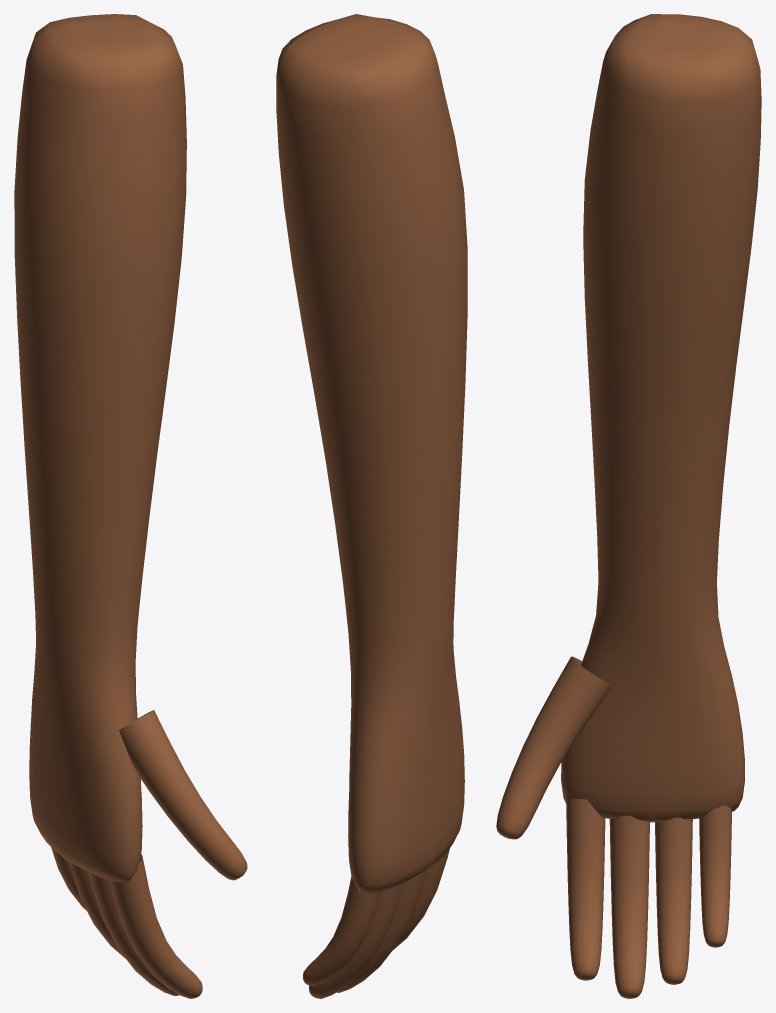
The model's file is antebrazoder.obj.
3 views of the same model, side by side, from view 1: azimuth 30°, elevation 25°; view 2: azimuth 150°, elevation 25°; view 3: azimuth 270°, elevation 25° (orthographic). The views are drawn at different scales.
Visible parts, largest first — view 1: AntebrazoDer; view 2: AntebrazoDer; view 3: AntebrazoDer.
Boxes of the visible parts, box(x1,y1,x2,y2) form: AntebrazoDer: box(14, 14, 247, 998); AntebrazoDer: box(276, 14, 467, 998); AntebrazoDer: box(496, 14, 761, 998).
Size of the model in its own units: 0.071 by 0.4174 by 0.1066.
Materials: 1 (1 with a texture image).
